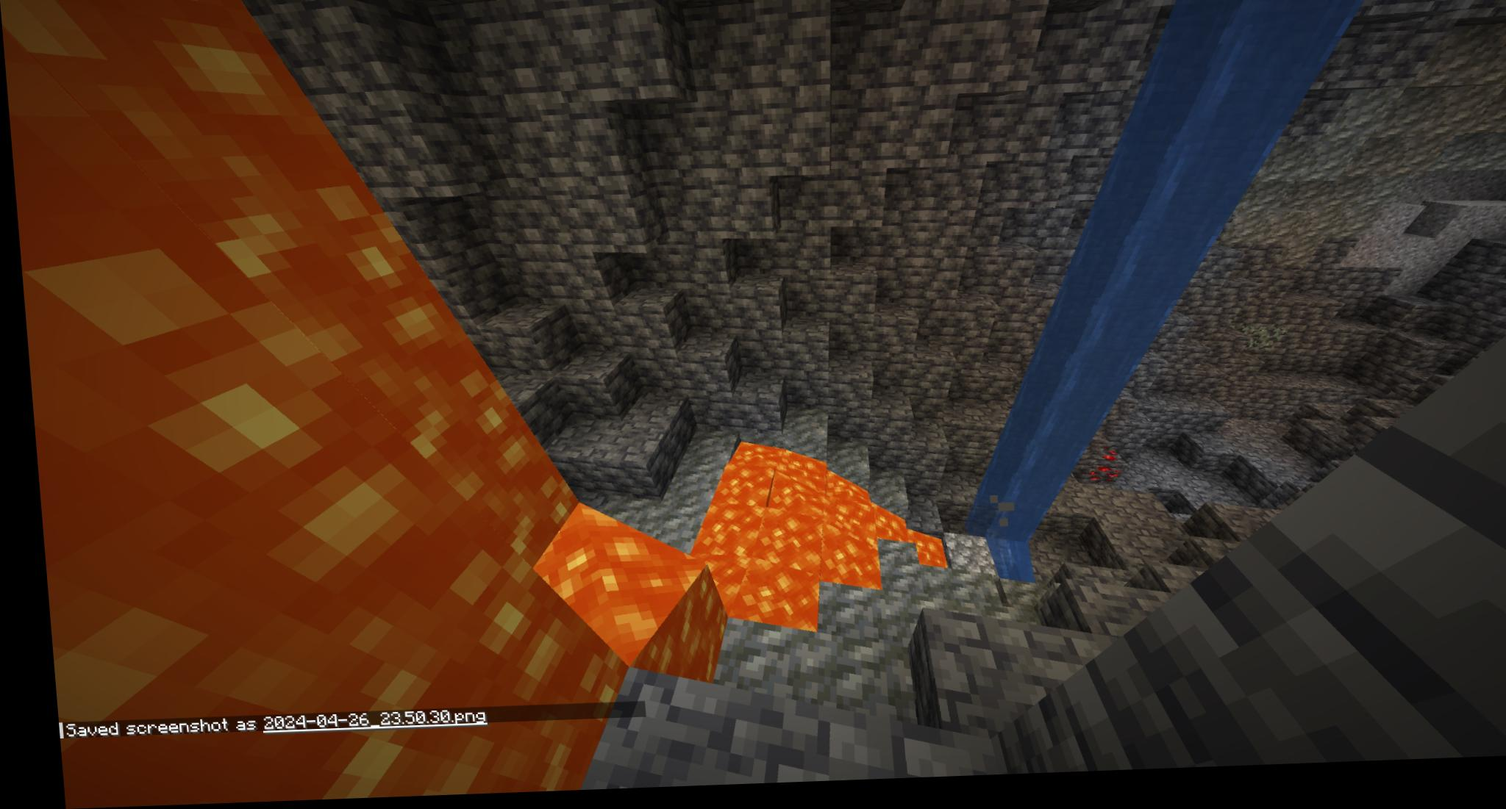redstone ore: (1078, 454, 1120, 492)
